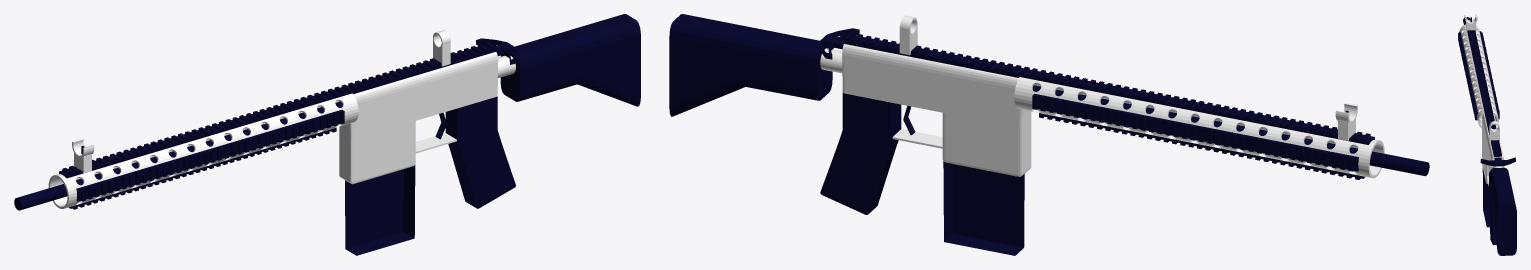
File: stoner0010.obj
3 views of the same model, side by side, from view 1: azimuth 30°, elevation 25°; view 2: azimuth 150°, elevation 25°; view 3: azimuth 270°, elevation 25° (orthographic). The views are drawn at different scales.
Parts seen in each view (by area): view 1: shoulderStock, upperReceiver, rearPistolGrip, mag, handGuard, picatinyRail, picatinyRailLeft, magWell, barrel, picatinyRailBottom, lowerTriggerGuard, handle; view 2: shoulderStock, upperReceiver, handGuard, mag, rearPistolGrip, picatinyRail, picatinyRailRight, magWell, barrel, picatinyRailBottom, lowerTriggerGuard, handle (+1 smaller); view 3: shoulderStock, handGuard, picatinyRail, upperReceiver, picatinyRailLeft, mag, picatinyRailRight, rearPistolGrip, handle, magWell, rearSight, fronterSight (+2 smaller).
Boxes of the visible parts, x1,y1,x2,y2 form: shoulderStock: (500, 14, 640, 106); upperReceiver: (339, 52, 498, 139); rearPistolGrip: (445, 96, 515, 208); mag: (345, 165, 415, 255); handGuard: (48, 93, 358, 208); picatinyRail: (59, 42, 495, 178); picatinyRailLeft: (76, 109, 344, 201); magWell: (339, 121, 415, 184); barrel: (14, 101, 342, 210); picatinyRailBottom: (69, 127, 336, 209); lowerTriggerGuard: (415, 133, 456, 153); handle: (476, 38, 517, 64); shoulderStock: (669, 14, 832, 116); upperReceiver: (842, 44, 1031, 127); handGuard: (1014, 77, 1384, 178); mag: (943, 161, 1024, 255); rearPistolGrip: (820, 93, 901, 214); picatinyRail: (844, 32, 1374, 144); picatinyRailRight: (1032, 93, 1358, 171); magWell: (942, 113, 1031, 176); barrel: (1032, 85, 1429, 176); picatinyRailBottom: (1039, 113, 1364, 179); lowerTriggerGuard: (892, 129, 942, 148); handle: (820, 28, 859, 59); shoulderStock: (1489, 167, 1516, 255); handGuard: (1459, 24, 1498, 128); picatinyRail: (1467, 30, 1501, 156); upperReceiver: (1482, 113, 1504, 172); picatinyRailLeft: (1458, 32, 1477, 120); mag: (1482, 168, 1489, 227); picatinyRailRight: (1479, 31, 1499, 119); rearPistolGrip: (1489, 172, 1496, 245); handle: (1480, 157, 1515, 166); magWell: (1482, 139, 1488, 183); rearSight: (1489, 127, 1499, 141); fronterSight: (1466, 22, 1476, 32).
Size of the model in its own units: 8.99 by 2.56 by 1.19.
